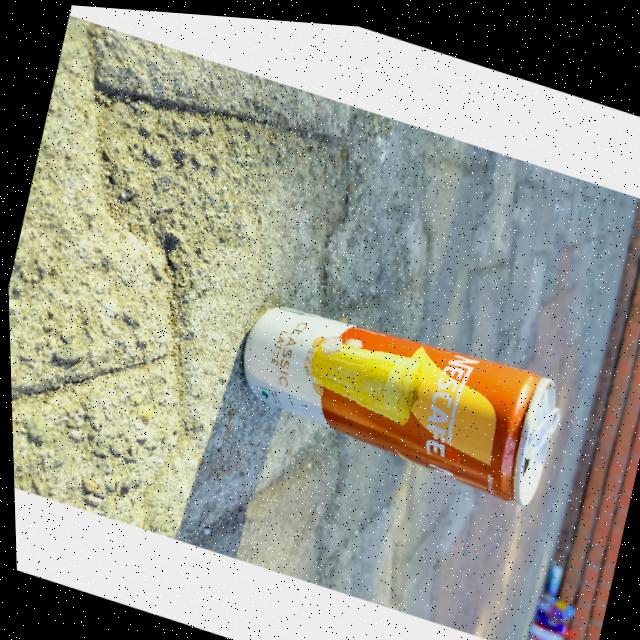Nescafe Classic Iced Latte: (220, 274, 572, 505)
